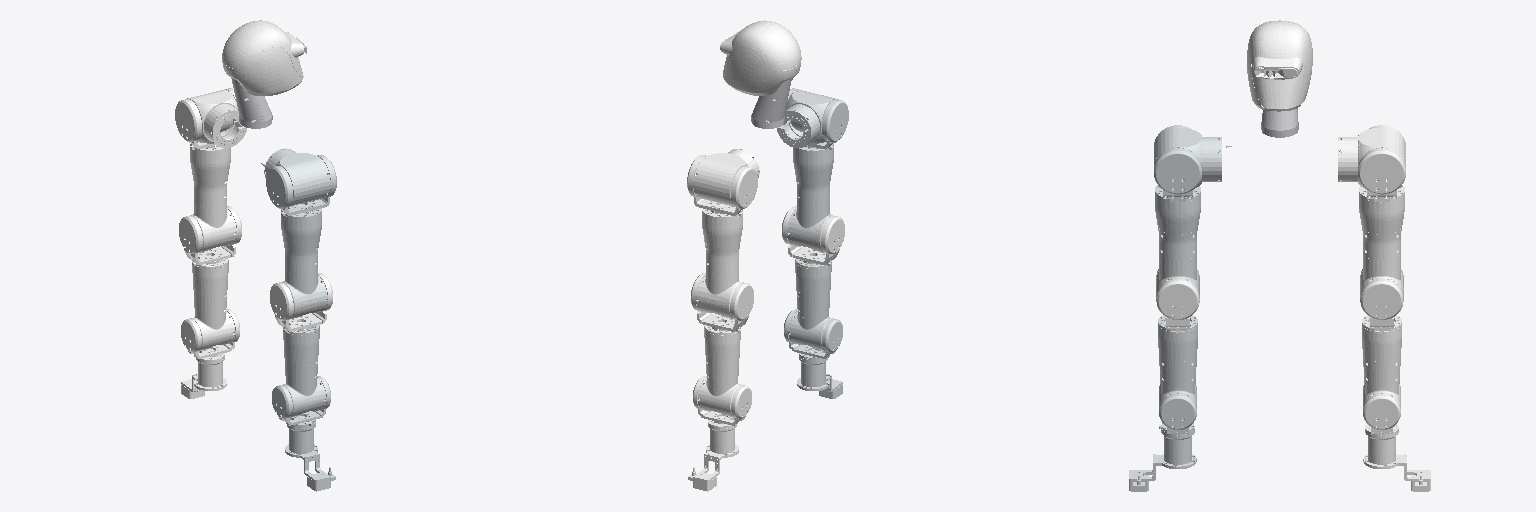
URDF robot description (O2URDFC.SLDASM):
<?xml version="1.0" encoding="utf-8"?>
<!-- This URDF was automatically created by SolidWorks to URDF Exporter! Originally created by Stephen Brawner (brawner@gmail.com) 
     Commit Version: 1.6.0-4-g7f85cfe  Build Version: 1.6.7995.38578
     For more information, please see http://wiki.ros.org/sw_urdf_exporter -->
<robot
  name="O2URDFC.SLDASM">
  <link
    name="base_link">
    <inertial>
      <origin
        xyz="0.000789570502261645 -0.00023580165286282 0.175600574617211"
        rpy="0 0 0" />
      <mass
        value="83.5636537354976" />
      <inertia
        ixx="3.3396564983175"
        ixy="-0.000102920338445307"
        ixz="-0.0327139918202257"
        iyy="3.51718679499464"
        iyz="2.62142538065846E-05"
        izz="2.7974176632241" />
    </inertial>
    <visual>
      <origin
        xyz="0 0 0"
        rpy="0 0 0" />
      <geometry>
        <mesh
          filename="package://O2URDFC.SLDASM/meshes/base_link.STL" />
      </geometry>
      <material
        name="">
        <color
          rgba="1 1 1 1" />
      </material>
    </visual>
    <collision>
      <origin
        xyz="0 0 0"
        rpy="0 0 0" />
      <geometry>
        <mesh
          filename="package://O2URDFC.SLDASM/meshes/base_link.STL" />
      </geometry>
    </collision>
  </link>
  <link
    name="Link1">
    <inertial>
      <origin
        xyz="0.00752611241056897 -0.254405490709285 0.00313500247778086"
        rpy="0 0 0" />
      <mass
        value="12.1911248964551" />
      <inertia
        ixx="0.0439071213690998"
        ixy="-0.000257649657724164"
        ixz="-1.45252361094948E-06"
        iyy="0.0287826486913667"
        iyz="2.66719162207622E-07"
        izz="0.0378427785380491" />
    </inertial>
    <visual>
      <origin
        xyz="0 0 0"
        rpy="0 0 0" />
      <geometry>
        <mesh
          filename="package://O2URDFC.SLDASM/meshes/Link1.STL" />
      </geometry>
      <material
        name="">
        <color
          rgba="0.752941176470588 0.752941176470588 0.752941176470588 1" />
      </material>
    </visual>
    <collision>
      <origin
        xyz="0 0 0"
        rpy="0 0 0" />
      <geometry>
        <mesh
          filename="package://O2URDFC.SLDASM/meshes/Link1.STL" />
      </geometry>
    </collision>
  </link>
  <joint
    name="1"
    type="revolute">
    <origin
      xyz="0.199 0 0.77681"
      rpy="-1.5708 0 0" />
    <parent
      link="base_link" />
    <child
      link="Link1" />
    <axis
      xyz="0 0 1" />
    <limit
      lower="0"
      upper="1.57"
      effort="0"
      velocity="0" />
  </joint>
  <link
    name="Link2">
    <inertial>
      <origin
        xyz="-0.00213457536433875 0.00844408586730059 0.127724194655595"
        rpy="0 0 0" />
      <mass
        value="0.80728494894006" />
      <inertia
        ixx="0.000867939523998424"
        ixy="2.12143632968706E-06"
        ixz="1.31972888202901E-05"
        iyy="0.000889046922128146"
        iyz="1.39577083341898E-06"
        izz="0.000438007120332236" />
    </inertial>
    <visual>
      <origin
        xyz="0 0 0"
        rpy="0 0 0" />
      <geometry>
        <mesh
          filename="package://O2URDFC.SLDASM/meshes/Link2.STL" />
      </geometry>
      <material
        name="">
        <color
          rgba="0.866666666666667 0.866666666666667 0.890196078431372 1" />
      </material>
    </visual>
    <collision>
      <origin
        xyz="0 0 0"
        rpy="0 0 0" />
      <geometry>
        <mesh
          filename="package://O2URDFC.SLDASM/meshes/Link2.STL" />
      </geometry>
    </collision>
  </link>
  <joint
    name="2"
    type="revolute">
    <origin
      xyz="0 -0.422 0"
      rpy="1.5708 0 0" />
    <parent
      link="Link1" />
    <child
      link="Link2" />
    <axis
      xyz="0 0 1" />
    <limit
      lower="-0.785"
      upper="0.785"
      effort="0"
      velocity="0" />
  </joint>
  <link
    name="Link3">
    <inertial>
      <origin
        xyz="0.0202160127810655 0.0024300283440164 0.0352934128343539"
        rpy="0 0 0" />
      <mass
        value="0.281393912583878" />
      <inertia
        ixx="0.0004574590525585"
        ixy="0.000178364760296199"
        ixz="-3.56701940488373E-07"
        iyy="0.00075594574840304"
        iyz="-9.48253279814481E-08"
        izz="0.000920226262878954" />
    </inertial>
    <visual>
      <origin
        xyz="0 0 0"
        rpy="0 0 0" />
      <geometry>
        <mesh
          filename="package://O2URDFC.SLDASM/meshes/Link3.STL" />
      </geometry>
      <material
        name="">
        <color
          rgba="1 1 1 1" />
      </material>
    </visual>
    <collision>
      <origin
        xyz="0 0 0"
        rpy="0 0 0" />
      <geometry>
        <mesh
          filename="package://O2URDFC.SLDASM/meshes/Link3.STL" />
      </geometry>
    </collision>
  </link>
  <joint
    name="3"
    type="revolute">
    <origin
      xyz="0.0047908 0.035009 0.15372"
      rpy="1.5708 0 -0.066413" />
    <parent
      link="Link2" />
    <child
      link="Link3" />
    <axis
      xyz="0 0 -1" />
    <limit
      lower="0"
      upper="0.72"
      effort="0"
      velocity="0" />
  </joint>
  <link
    name="Link4">
    <inertial>
      <origin
        xyz="-0.00630001745647854 -4.0634427812547E-05 0.0784943708321148"
        rpy="0 0 0" />
      <mass
        value="2.4120712063705" />
      <inertia
        ixx="0.00350137627337243"
        ixy="-1.15885639126003E-06"
        ixz="4.76118359857575E-05"
        iyy="0.00333205975894679"
        iyz="-1.40739687002626E-06"
        izz="0.00321267013571364" />
    </inertial>
    <visual>
      <origin
        xyz="0 0 0"
        rpy="0 0 0" />
      <geometry>
        <mesh
          filename="package://O2URDFC.SLDASM/meshes/Link4.STL" />
      </geometry>
      <material
        name="">
        <color
          rgba="0.898039215686275 0.917647058823529 0.929411764705882 1" />
      </material>
    </visual>
    <collision>
      <origin
        xyz="0 0 0"
        rpy="0 0 0" />
      <geometry>
        <mesh
          filename="package://O2URDFC.SLDASM/meshes/Link4.STL" />
      </geometry>
    </collision>
  </link>
  <joint
    name="4"
    type="revolute">
    <origin
      xyz="0 -0.348 -0.1175"
      rpy="-3.1416 0 0" />
    <parent
      link="Link1" />
    <child
      link="Link4" />
    <axis
      xyz="0 0 -1" />
    <limit
      lower="-2.6"
      upper="2.6"
      effort="0"
      velocity="0" />
  </joint>
  <link
    name="Link5">
    <inertial>
      <origin
        xyz="-0.0659449060280459 -4.1675998284918E-06 -0.00346395780118172"
        rpy="0 0 0" />
      <mass
        value="0.601315282789194" />
      <inertia
        ixx="0.000583108201243255"
        ixy="-9.49106175570431E-08"
        ixz="0.000129525514843903"
        iyy="0.000716540211791101"
        iyz="5.54384400465466E-08"
        izz="0.000601049692631377" />
    </inertial>
    <visual>
      <origin
        xyz="0 0 0"
        rpy="0 0 0" />
      <geometry>
        <mesh
          filename="package://O2URDFC.SLDASM/meshes/Link5.STL" />
      </geometry>
      <material
        name="">
        <color
          rgba="0.898039215686275 0.917647058823529 0.929411764705882 1" />
      </material>
    </visual>
    <collision>
      <origin
        xyz="0 0 0"
        rpy="0 0 0" />
      <geometry>
        <mesh
          filename="package://O2URDFC.SLDASM/meshes/Link5.STL" />
      </geometry>
    </collision>
  </link>
  <joint
    name="5"
    type="revolute">
    <origin
      xyz="0 0 0.08875"
      rpy="1.5708 0 1.5708" />
    <parent
      link="Link4" />
    <child
      link="Link5" />
    <axis
      xyz="0 0 1" />
    <limit
      lower="-1.57"
      upper="0"
      effort="0"
      velocity="0" />
  </joint>
  <link
    name="Link6">
    <inertial>
      <origin
        xyz="3.07949887893011E-05 0.001817413051037 0.140424728692079"
        rpy="0 0 0" />
      <mass
        value="1.25024912007682" />
      <inertia
        ixx="0.00546681391244259"
        ixy="1.30366572567104E-07"
        ixz="1.18414650985285E-06"
        iyy="0.0055590873257809"
        iyz="-0.000125857241208819"
        izz="0.00171019547467263" />
    </inertial>
    <visual>
      <origin
        xyz="0 0 0"
        rpy="0 0 0" />
      <geometry>
        <mesh
          filename="package://O2URDFC.SLDASM/meshes/Link6.STL" />
      </geometry>
      <material
        name="">
        <color
          rgba="0.898039215686275 0.917647058823529 0.929411764705882 1" />
      </material>
    </visual>
    <collision>
      <origin
        xyz="0 0 0"
        rpy="0 0 0" />
      <geometry>
        <mesh
          filename="package://O2URDFC.SLDASM/meshes/Link6.STL" />
      </geometry>
    </collision>
  </link>
  <joint
    name="6"
    type="revolute">
    <origin
      xyz="-0.063 0 0"
      rpy="-1.5708 0 1.5708" />
    <parent
      link="Link5" />
    <child
      link="Link6" />
    <axis
      xyz="0 0 -1" />
    <limit
      lower="-2.9"
      upper="2.9"
      effort="0"
      velocity="0" />
  </joint>
  <link
    name="Link7">
    <inertial>
      <origin
        xyz="-5.24367192808461E-06 0.0722721750147655 -0.00180560579311786"
        rpy="0 0 0" />
      <mass
        value="0.501430462027624" />
      <inertia
        ixx="0.000510959013383761"
        ixy="9.02933499118979E-08"
        ixz="3.68650064929001E-08"
        iyy="0.000369028628211599"
        iyz="-8.30875184020467E-05"
        izz="0.000452654486885394" />
    </inertial>
    <visual>
      <origin
        xyz="0 0 0"
        rpy="0 0 0" />
      <geometry>
        <mesh
          filename="package://O2URDFC.SLDASM/meshes/Link7.STL" />
      </geometry>
      <material
        name="">
        <color
          rgba="1 1 1 1" />
      </material>
    </visual>
    <collision>
      <origin
        xyz="0 0 0"
        rpy="0 0 0" />
      <geometry>
        <mesh
          filename="package://O2URDFC.SLDASM/meshes/Link7.STL" />
      </geometry>
    </collision>
  </link>
  <joint
    name="7"
    type="revolute">
    <origin
      xyz="0 0 0.2255"
      rpy="1.5708 0 0" />
    <parent
      link="Link6" />
    <child
      link="Link7" />
    <axis
      xyz="0 0 -1" />
    <limit
      lower="0"
      upper="1.57"
      effort="0"
      velocity="0" />
  </joint>
  <link
    name="Link8">
    <inertial>
      <origin
        xyz="4.97710888790193E-05 0.0027010683814841 0.125047277942125"
        rpy="0 0 0" />
      <mass
        value="0.94645842922567" />
      <inertia
        ixx="0.00272498679823857"
        ixy="2.68101093324675E-07"
        ixz="5.53951452919727E-08"
        iyy="0.0027568443010064"
        iyz="-9.91075354827675E-05"
        izz="0.00106068093687018" />
    </inertial>
    <visual>
      <origin
        xyz="0 0 0"
        rpy="0 0 0" />
      <geometry>
        <mesh
          filename="package://O2URDFC.SLDASM/meshes/Link8.STL" />
      </geometry>
      <material
        name="">
        <color
          rgba="0.898039215686275 0.917647058823529 0.929411764705882 1" />
      </material>
    </visual>
    <collision>
      <origin
        xyz="0 0 0"
        rpy="0 0 0" />
      <geometry>
        <mesh
          filename="package://O2URDFC.SLDASM/meshes/Link8.STL" />
      </geometry>
    </collision>
  </link>
  <joint
    name="8"
    type="revolute">
    <origin
      xyz="0 0.0675 0"
      rpy="-1.5708 0 0" />
    <parent
      link="Link7" />
    <child
      link="Link8" />
    <axis
      xyz="0 0 -1" />
    <limit
      lower="-2.9"
      upper="2.9"
      effort="0"
      velocity="0" />
  </joint>
  <link
    name="Link9">
    <inertial>
      <origin
        xyz="-6.31291833786685E-05 0.0645758764942151 -0.000355489272486215"
        rpy="0 0 0" />
      <mass
        value="0.652706845295561" />
      <inertia
        ixx="0.000395056729396953"
        ixy="9.93041402573374E-07"
        ixz="-6.53305086671031E-07"
        iyy="0.000345312572181657"
        iyz="-3.96154917101236E-05"
        izz="0.000361694814335889" />
    </inertial>
    <visual>
      <origin
        xyz="0 0 0"
        rpy="0 0 0" />
      <geometry>
        <mesh
          filename="package://O2URDFC.SLDASM/meshes/Link9.STL" />
      </geometry>
      <material
        name="">
        <color
          rgba="0.898039215686275 0.917647058823529 0.929411764705882 1" />
      </material>
    </visual>
    <collision>
      <origin
        xyz="0 0 0"
        rpy="0 0 0" />
      <geometry>
        <mesh
          filename="package://O2URDFC.SLDASM/meshes/Link9.STL" />
      </geometry>
    </collision>
  </link>
  <joint
    name="9"
    type="revolute">
    <origin
      xyz="0 0 0.184"
      rpy="1.5708 0 0" />
    <parent
      link="Link8" />
    <child
      link="Link9" />
    <axis
      xyz="0 0 1" />
    <limit
      lower="-1.57"
      upper="1.57"
      effort="0"
      velocity="0" />
  </joint>
  <link
    name="Link10">
    <inertial>
      <origin
        xyz="0.0348721478260215 -0.00101845211957424 0.0716072678948285"
        rpy="0 0 0" />
      <mass
        value="0.345799455744835" />
      <inertia
        ixx="0.00018422246862753"
        ixy="8.6033295092348E-07"
        ixz="-5.76759772008052E-06"
        iyy="0.000188055892786701"
        iyz="-2.24142891701163E-06"
        izz="0.000223319696528159" />
    </inertial>
    <visual>
      <origin
        xyz="0 0 0"
        rpy="0 0 0" />
      <geometry>
        <mesh
          filename="package://O2URDFC.SLDASM/meshes/Link10.STL" />
      </geometry>
      <material
        name="">
        <color
          rgba="0.898039215686275 0.917647058823529 0.929411764705882 1" />
      </material>
    </visual>
    <collision>
      <origin
        xyz="0 0 0"
        rpy="0 0 0" />
      <geometry>
        <mesh
          filename="package://O2URDFC.SLDASM/meshes/Link10.STL" />
      </geometry>
    </collision>
  </link>
  <joint
    name="10"
    type="revolute">
    <origin
      xyz="0 0.0575 0"
      rpy="-1.5708 0 0" />
    <parent
      link="Link9" />
    <child
      link="Link10" />
    <axis
      xyz="0 0 1" />
    <limit
      lower="-2.9"
      upper="2.9"
      effort="0"
      velocity="0" />
  </joint>
  <link
    name="Link11">
    <inertial>
      <origin
        xyz="0.00333079777462608 -9.07006947257205E-05 0.0692241598973872"
        rpy="0 0 0" />
      <mass
        value="1.2670796409933" />
      <inertia
        ixx="0.00237288999618162"
        ixy="5.86663458770255E-07"
        ixz="-4.76730507318211E-05"
        iyy="0.00212661183100349"
        iyz="-1.4784601772321E-06"
        izz="0.00200663817890889" />
    </inertial>
    <visual>
      <origin
        xyz="0 0 0"
        rpy="0 0 0" />
      <geometry>
        <mesh
          filename="package://O2URDFC.SLDASM/meshes/Link11.STL" />
      </geometry>
      <material
        name="">
        <color
          rgba="1 1 1 1" />
      </material>
    </visual>
    <collision>
      <origin
        xyz="0 0 0"
        rpy="0 0 0" />
      <geometry>
        <mesh
          filename="package://O2URDFC.SLDASM/meshes/Link11.STL" />
      </geometry>
    </collision>
  </link>
  <joint
    name="11"
    type="revolute">
    <origin
      xyz="0 -0.348 0.1175"
      rpy="0 0 -3.1416" />
    <parent
      link="Link1" />
    <child
      link="Link11" />
    <axis
      xyz="0 0 -1" />
    <limit
      lower="-2.6"
      upper="2.6"
      effort="0"
      velocity="0" />
  </joint>
  <link
    name="Link12">
    <inertial>
      <origin
        xyz="-0.0659449055923698 4.1700701088887E-06 -0.00346395887769232"
        rpy="0 0 0" />
      <mass
        value="0.601315226167731" />
      <inertia
        ixx="0.000583108538125192"
        ixy="9.49488664033644E-08"
        ixz="0.000129525506561749"
        iyy="0.00071654113169185"
        iyz="-5.85908053467226E-08"
        izz="0.000601049018001915" />
    </inertial>
    <visual>
      <origin
        xyz="0 0 0"
        rpy="0 0 0" />
      <geometry>
        <mesh
          filename="package://O2URDFC.SLDASM/meshes/Link12.STL" />
      </geometry>
      <material
        name="">
        <color
          rgba="1 1 1 1" />
      </material>
    </visual>
    <collision>
      <origin
        xyz="0 0 0"
        rpy="0 0 0" />
      <geometry>
        <mesh
          filename="package://O2URDFC.SLDASM/meshes/Link12.STL" />
      </geometry>
    </collision>
  </link>
  <joint
    name="12"
    type="revolute">
    <origin
      xyz="0 0 0.08875"
      rpy="-1.5708 0 1.5708" />
    <parent
      link="Link11" />
    <child
      link="Link12" />
    <axis
      xyz="0 0 1" />
    <limit
      lower="0"
      upper="1.57"
      effort="0"
      velocity="0" />
  </joint>
  <link
    name="Link13">
    <inertial>
      <origin
        xyz="-3.0781837578403E-05 0.00181733223879538 0.140424712042052"
        rpy="0 0 0" />
      <mass
        value="1.25023692168931" />
      <inertia
        ixx="0.0054668358927265"
        ixy="-1.23730520886435E-07"
        ixz="-1.1421235918291E-06"
        iyy="0.00555908022647652"
        iyz="-0.000125847923590874"
        izz="0.0017101926586454" />
    </inertial>
    <visual>
      <origin
        xyz="0 0 0"
        rpy="0 0 0" />
      <geometry>
        <mesh
          filename="package://O2URDFC.SLDASM/meshes/Link13.STL" />
      </geometry>
      <material
        name="">
        <color
          rgba="1 1 1 1" />
      </material>
    </visual>
    <collision>
      <origin
        xyz="0 0 0"
        rpy="0 0 0" />
      <geometry>
        <mesh
          filename="package://O2URDFC.SLDASM/meshes/Link13.STL" />
      </geometry>
    </collision>
  </link>
  <joint
    name="13"
    type="revolute">
    <origin
      xyz="-0.063 0 0"
      rpy="-1.5708 0 1.5708" />
    <parent
      link="Link12" />
    <child
      link="Link13" />
    <axis
      xyz="0 0 1" />
    <limit
      lower="-2.9"
      upper="2.9"
      effort="0"
      velocity="0" />
  </joint>
  <link
    name="Link14">
    <inertial>
      <origin
        xyz="-5.23718893044589E-06 0.0722721716388349 0.00180560443539771"
        rpy="0 0 0" />
      <mass
        value="0.5014304762748" />
      <inertia
        ixx="0.000510958782310604"
        ixy="9.03404742859014E-08"
        ixz="-3.83097228975646E-08"
        iyy="0.000369028277664665"
        iyz="8.3087505899305E-05"
        izz="0.000452654466944092" />
    </inertial>
    <visual>
      <origin
        xyz="0 0 0"
        rpy="0 0 0" />
      <geometry>
        <mesh
          filename="package://O2URDFC.SLDASM/meshes/Link14.STL" />
      </geometry>
      <material
        name="">
        <color
          rgba="1 1 1 1" />
      </material>
    </visual>
    <collision>
      <origin
        xyz="0 0 0"
        rpy="0 0 0" />
      <geometry>
        <mesh
          filename="package://O2URDFC.SLDASM/meshes/Link14.STL" />
      </geometry>
    </collision>
  </link>
  <joint
    name="14"
    type="revolute">
    <origin
      xyz="0 0 0.2255"
      rpy="1.5708 0 -3.1416" />
    <parent
      link="Link13" />
    <child
      link="Link14" />
    <axis
      xyz="0 0 -1" />
    <limit
      lower="0"
      upper="1.57"
      effort="0"
      velocity="0" />
  </joint>
  <link
    name="Link15">
    <inertial>
      <origin
        xyz="-6.46635835749865E-05 0.00269527156312102 0.125118039497383"
        rpy="0 0 0" />
      <mass
        value="0.946351306679076" />
      <inertia
        ixx="0.00272501846340999"
        ixy="-2.64639817098362E-07"
        ixz="-4.23701611828287E-08"
        iyy="0.00275687188608678"
        iyz="-9.91044779100926E-05"
        izz="0.00106067820149038" />
    </inertial>
    <visual>
      <origin
        xyz="0 0 0"
        rpy="0 0 0" />
      <geometry>
        <mesh
          filename="package://O2URDFC.SLDASM/meshes/Link15.STL" />
      </geometry>
      <material
        name="">
        <color
          rgba="1 1 1 1" />
      </material>
    </visual>
    <collision>
      <origin
        xyz="0 0 0"
        rpy="0 0 0" />
      <geometry>
        <mesh
          filename="package://O2URDFC.SLDASM/meshes/Link15.STL" />
      </geometry>
    </collision>
  </link>
  <joint
    name="15"
    type="revolute">
    <origin
      xyz="0 0.0675 0"
      rpy="1.5708 0 -3.1416" />
    <parent
      link="Link14" />
    <child
      link="Link15" />
    <axis
      xyz="0 0 -1" />
    <limit
      lower="-2.9"
      upper="2.9"
      effort="0"
      velocity="0" />
  </joint>
  <link
    name="Link16">
    <inertial>
      <origin
        xyz="8.21909555834277E-05 0.0357950884025223 -0.00157231157079782"
        rpy="0 0 0" />
      <mass
        value="0.203383265247377" />
      <inertia
        ixx="0.000173173613733078"
        ixy="-2.70575832479209E-07"
        ixz="2.6312917690389E-07"
        iyy="0.000139330447646615"
        iyz="-3.74158795084106E-05"
        izz="0.000138590459061593" />
    </inertial>
    <visual>
      <origin
        xyz="0 0 0"
        rpy="0 0 0" />
      <geometry>
        <mesh
          filename="package://O2URDFC.SLDASM/meshes/Link16.STL" />
      </geometry>
      <material
        name="">
        <color
          rgba="1 1 1 1" />
      </material>
    </visual>
    <collision>
      <origin
        xyz="0 0 0"
        rpy="0 0 0" />
      <geometry>
        <mesh
          filename="package://O2URDFC.SLDASM/meshes/Link16.STL" />
      </geometry>
    </collision>
  </link>
  <joint
    name="16"
    type="revolute">
    <origin
      xyz="0 0 0.184"
      rpy="1.5708 0 0" />
    <parent
      link="Link15" />
    <child
      link="Link16" />
    <axis
      xyz="0 0 1" />
    <limit
      lower="-1.57"
      upper="1.57"
      effort="0"
      velocity="0" />
  </joint>
  <link
    name="Link17">
    <inertial>
      <origin
        xyz="-0.0377108365092842 -0.00109491790913174 0.0832665715320996"
        rpy="0 0 0" />
      <mass
        value="0.319235502168075" />
      <inertia
        ixx="0.000174074610572431"
        ixy="-8.38342141970104E-07"
        ixz="5.76935235408691E-06"
        iyy="0.00017774389060101"
        iyz="-2.24119500206235E-06"
        izz="0.000202972443050794" />
    </inertial>
    <visual>
      <origin
        xyz="0 0 0"
        rpy="0 0 0" />
      <geometry>
        <mesh
          filename="package://O2URDFC.SLDASM/meshes/Link17.STL" />
      </geometry>
      <material
        name="">
        <color
          rgba="1 1 1 1" />
      </material>
    </visual>
    <collision>
      <origin
        xyz="0 0 0"
        rpy="0 0 0" />
      <geometry>
        <mesh
          filename="package://O2URDFC.SLDASM/meshes/Link17.STL" />
      </geometry>
    </collision>
  </link>
  <joint
    name="17"
    type="revolute">
    <origin
      xyz="0 0.052 0"
      rpy="-1.5708 0 0" />
    <parent
      link="Link16" />
    <child
      link="Link17" />
    <axis
      xyz="0 0 1" />
    <limit
      lower="-2.9"
      upper="2.9"
      effort="0"
      velocity="0" />
  </joint>
</robot>

--- What the picture shows (computed from the rendered views, not written in the file) ---
Views: 3 orthographic renders of the robot side by side, from view 1: azimuth 30°, elevation 25°; view 2: azimuth 150°, elevation 25°; view 3: azimuth 270°, elevation 25°.
Robot: O2URDFC.SLDASM — 18 links, 17 joints (17 revolute); root link base_link; default pose: all joints at 0.
Links seen in each view (by area): view 1: Link3, Link6, Link13, Link8, Link15, Link4, Link11, Link5, Link10, Link7, Link14, Link17 (+4 smaller); view 2: Link3, Link13, Link6, Link8, Link15, Link11, Link4, Link12, Link17, Link14, Link7, Link10 (+4 smaller); view 3: Link3, Link6, Link13, Link8, Link15, Link5, Link12, Link11, Link4, Link10, Link17, Link7 (+4 smaller).
Link boxes in pixels (box(x1,y1,x2,y2)): Link3: box(222, 20, 306, 95); Link6: box(281, 208, 327, 319); Link13: box(190, 142, 236, 252); Link8: box(261, 163, 326, 417); Link15: box(191, 259, 235, 350); Link4: box(264, 148, 330, 205); Link11: box(187, 89, 246, 147); Link5: box(266, 155, 336, 215); Link10: box(285, 420, 335, 491); Link7: box(270, 273, 332, 331); Link14: box(179, 206, 241, 264); Link17: box(181, 353, 226, 398); Link3: box(720, 20, 801, 95); Link13: box(696, 208, 742, 318); Link6: box(787, 143, 833, 252); Link8: box(788, 129, 833, 350); Link15: box(698, 325, 740, 417); Link11: box(693, 149, 759, 206); Link4: box(777, 90, 838, 147); Link12: box(687, 155, 757, 215); Link17: box(688, 420, 738, 491); Link14: box(691, 273, 753, 331); Link7: box(782, 206, 844, 264); Link10: box(797, 353, 842, 398); Link3: box(1247, 20, 1312, 111); Link6: box(1155, 185, 1200, 296); Link13: box(1359, 185, 1404, 296); Link8: box(1158, 145, 1231, 406); Link15: box(1362, 315, 1401, 406); Link5: box(1154, 125, 1201, 203); Link12: box(1358, 125, 1405, 203); Link11: box(1338, 128, 1405, 187); Link4: box(1154, 128, 1221, 187); Link10: box(1129, 423, 1196, 491); Link17: box(1363, 424, 1430, 491); Link7: box(1156, 269, 1199, 333).
Bounding box of the posed robot: 0.1913 × 0.6125 × 1.04 m (x, y, z).
16 mesh visuals loaded from 18 distinct referenced files (16 binary STL); not drawn: 2 (reference not matched to a file when rendering).
